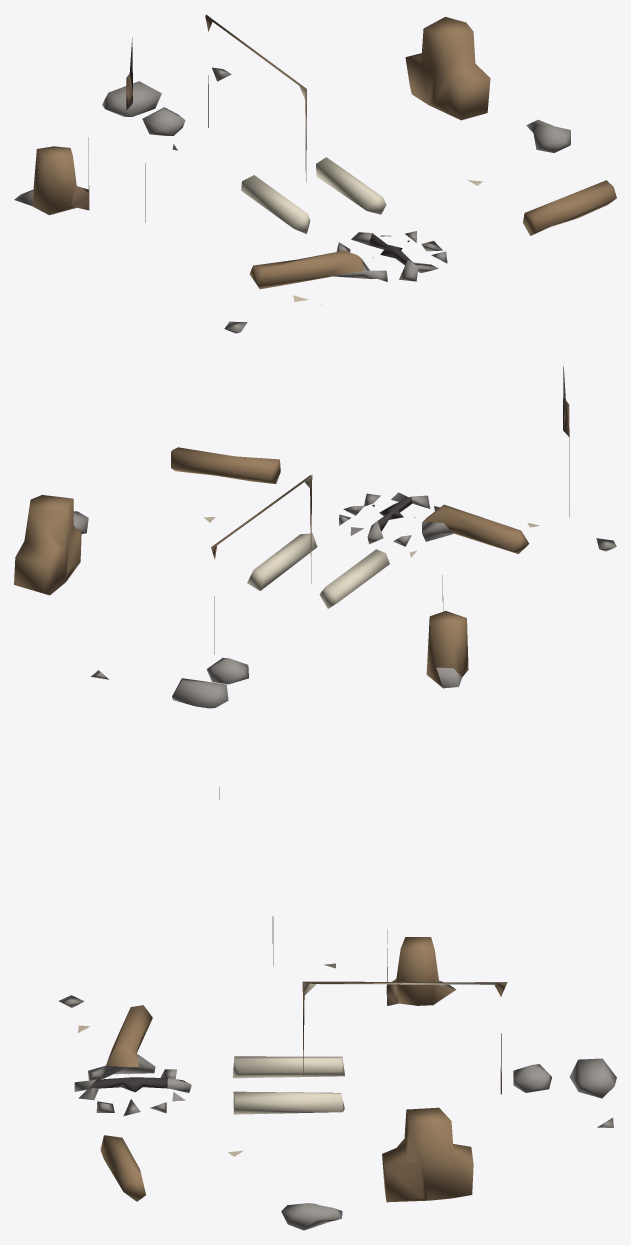
Rendered from poi_skeleton_camp_lods.glb.
3 renders of one model, top to bottom at view 1: azimuth 30°, elevation 25°; view 2: azimuth 150°, elevation 25°; view 3: azimuth 270°, elevation 25°, orthographic. The views are drawn at different scales.
Parts seen in each view (by area): view 1: poi_skeleton_camp_far; view 2: poi_skeleton_camp_far; view 3: poi_skeleton_camp_far.
Boxes of the visible parts, left/top/right/bottom form: poi_skeleton_camp_far: left=14, top=14, right=616, bottom=333; poi_skeleton_camp_far: left=14, top=366, right=616, bottom=708; poi_skeleton_camp_far: left=58, top=787, right=616, bottom=1230.
Size of what is drawn, in the model's own units: 7.93 by 4.08 by 8.47.
